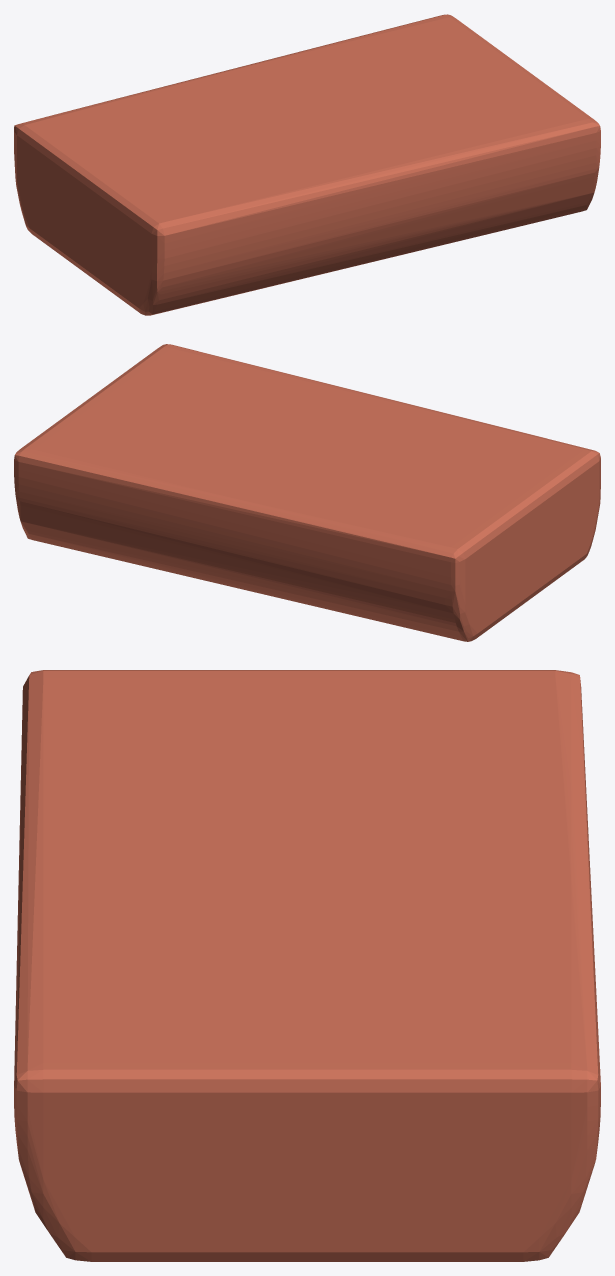
The model's file is right_elbow_link_part_9.obj.
The picture shows the model from 3 angles, top to bottom: view 1: azimuth 30°, elevation 25°; view 2: azimuth 150°, elevation 25°; view 3: azimuth 270°, elevation 25°; orthographic projection. The views are drawn at different scales.
Bounding box in the file's own units: 0.0905 × 0.0196 × 0.0544.
